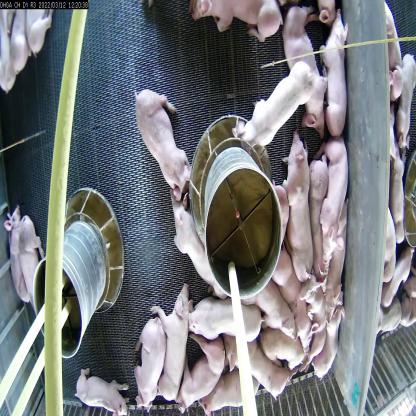Pig: (133, 79, 197, 211), (236, 65, 310, 150), (168, 197, 225, 307), (278, 137, 318, 276), (288, 9, 327, 141), (189, 291, 266, 357), (158, 284, 194, 405), (324, 23, 356, 145), (130, 317, 168, 416), (242, 336, 290, 408), (176, 345, 230, 406), (18, 210, 53, 304), (324, 150, 354, 247), (294, 272, 322, 370), (320, 288, 348, 383), (5, 204, 32, 296), (254, 277, 295, 335), (210, 365, 256, 415), (78, 369, 125, 416), (267, 321, 307, 370)
